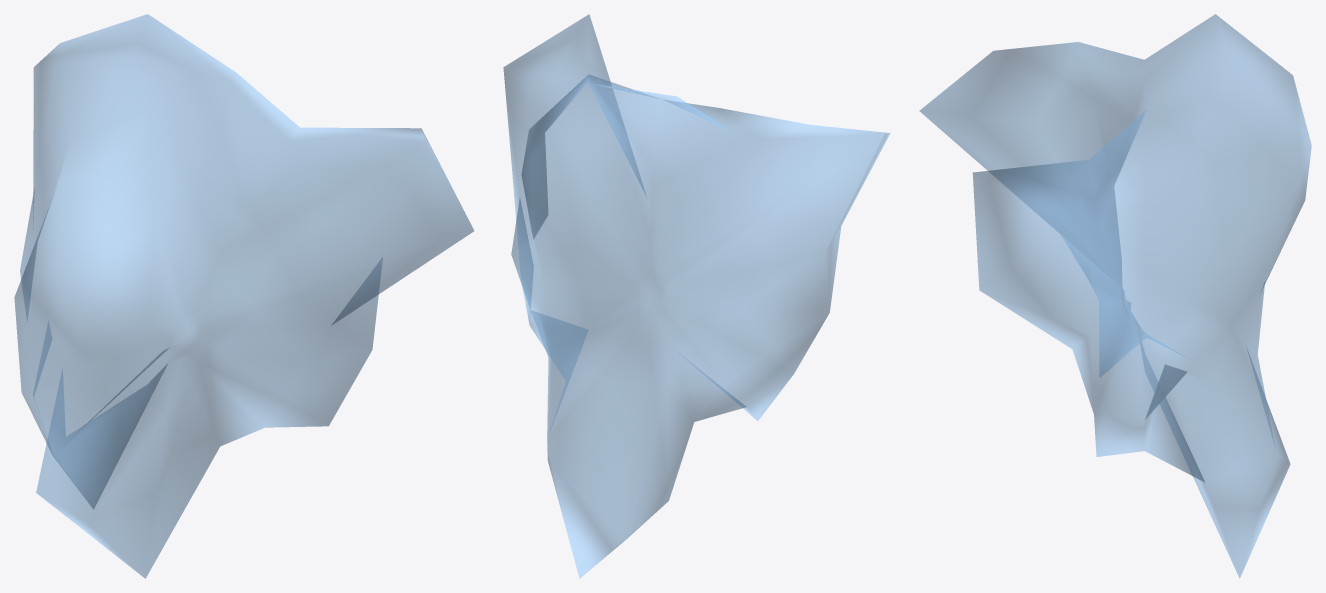
File: mthripid_shield.gltf
3 renders of one model, left to right at view 1: azimuth 30°, elevation 25°; view 2: azimuth 150°, elevation 25°; view 3: azimuth 270°, elevation 25°, orthographic. The views are drawn at different scales.
Visible parts, largest first — view 1: mthripid.shield; view 2: mthripid.shield; view 3: mthripid.shield.
Part boxes in pixels (x1=…): mthripid.shield: x1=14, y1=14, x2=473, y2=578; mthripid.shield: x1=503, y1=14, x2=890, y2=578; mthripid.shield: x1=919, y1=14, x2=1311, y2=578.
Size of the model in its own units: 32.22 by 42.8 by 29.24.
